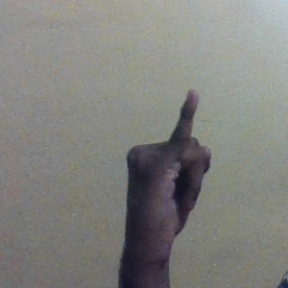I: (123, 87, 211, 240)
